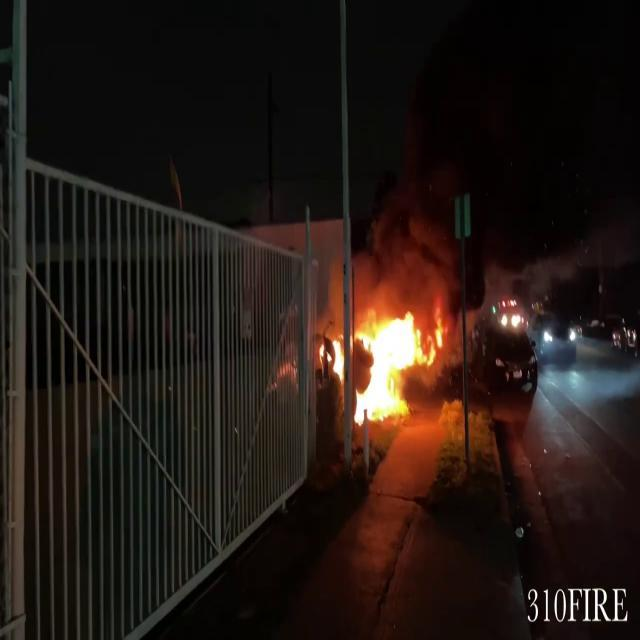Fire: (319, 304, 444, 427)
Smoke: (357, 186, 462, 326)
